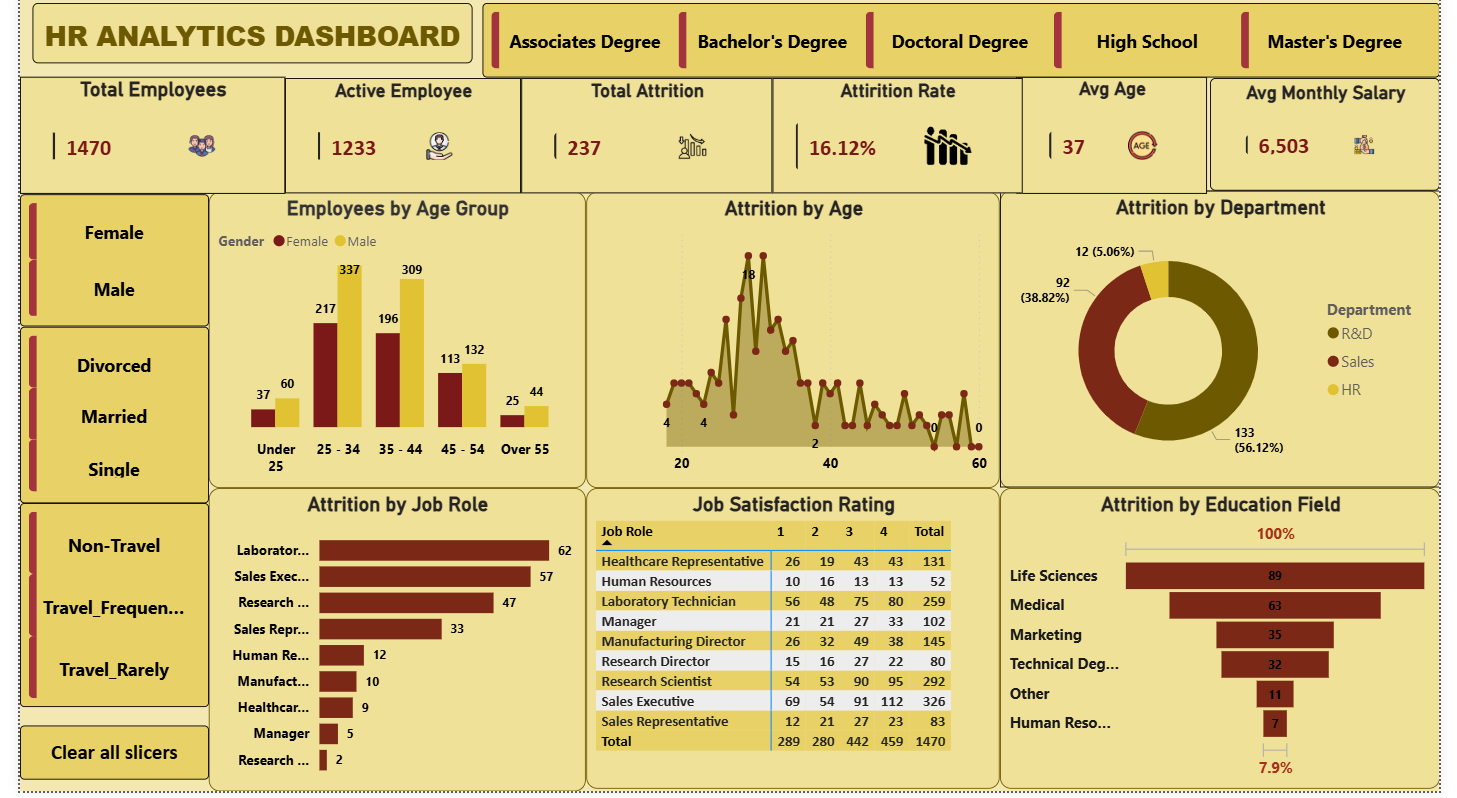

The dashboard page shown, as its layout file describes it:
{"tool":"powerbi","page":{"name":"Page 1","canvas":[1280,720],"ordinal":0},"visuals":[{"type":"cardVisual","title":"Total Employees","fields":{"Data":["Dax Measures.Total Employees"]},"box":[0,75.9,239.2,105.6],"z":0,"group":"g1"},{"type":"clusteredColumnChart","title":"Employees by Age Group","fields":{"Category":["HR data.Age Group"],"Y":["Count(HR data.Employee Number)"],"Series":["HR data.Gender"]},"box":[170.4,179.1,339.6,267.5],"z":0},{"type":"cardVisual","title":"Avg Age","fields":{"Data":["Dax Measures.Avg Age"]},"box":[897.9,76,172.1,105.6],"z":1000,"group":"g1"},{"type":"areaChart","title":"Attrition by Age","fields":{"Category":["HR data.Age"],"Y":["Dax Measures.Total Attrition"]},"box":[510,179.1,373.2,267.5],"z":1000},{"type":"cardVisual","title":"Avg Monthly Salary","fields":{"Data":["Dax Measures.Avg Monthly Salary"]},"box":[1072.5,77.3,207.5,101.9],"z":2000,"group":"g1"},{"type":"donutChart","title":"Attrition by Department","fields":{"Category":["HR data.Department"],"Y":["Dax Measures.Total Attrition"]},"box":[883.2,177.9,396.8,268.7],"z":2000},{"type":"group","id":"g1","title":"Group 1","box":[0,75.9,1280,105.7],"z":3000},{"type":"cardVisual","title":"Active Employee","fields":{"Data":["Dax Measures.Active Employee"]},"box":[239.2,77.1,212.6,104.4],"z":3000,"group":"g1"},{"type":"cardVisual","title":"Total Attrition","fields":{"Data":["Dax Measures.Total Attrition"]},"box":[451.7,77.1,226.5,104.4],"z":4000,"group":"g1"},{"type":"barChart","title":"Attrition by Job Role","fields":{"Category":["HR data.Job Role"],"Y":["Dax Measures.Total Attrition"]},"box":[170.4,446.6,339.6,273.7],"z":4000},{"type":"cardVisual","title":"Attirition Rate","fields":{"Data":["Dax Measures.Attirition Rate"]},"box":[678.2,77.1,225.2,104.4],"z":5000,"group":"g1"},{"type":"pivotTable","title":"Job Satisfaction Rating","fields":{"Rows":["HR data.Job Role"],"Columns":["HR data.Job Satisfaction"],"Values":["Dax Measures.Total Employees"]},"box":[510,446.6,373.2,271.2],"z":5000},{"type":"funnel","title":"Attrition by Education Field","fields":{"Category":["HR data.Education Field"],"Y":["Dax Measures.Total Attrition"]},"box":[883.2,446.6,396.8,271.2],"z":6000},{"type":"advancedSlicerVisual","fields":{"Values":["HR data.Gender"]},"box":[0,181.6,170.4,119.4],"z":7000},{"type":"advancedSlicerVisual","fields":{"Values":["HR data.Marital Status"]},"box":[0,301,170.4,159.2],"z":8000},{"type":"advancedSlicerVisual","fields":{"Values":["HR data.Business Travel"]},"box":[0,460.3,170.4,184.1],"z":9000},{"type":"advancedSlicerVisual","fields":{"Values":["HR data.Education"]},"box":[416.7,8.7,863.3,67.2],"z":10000},{"type":"actionButton","box":[0,660.5,170.4,48.5],"z":11000},{"type":"textbox","box":[11.2,8.7,396.8,54.7],"z":11001}]}

Visuals, with their boxes in screenshot pixels (x1, y1, x2, y2), scaled from the page's 1280x720 canvas onto the 1457x798 screenshot:
"Total Employees" cardVisual: <region>0, 84, 272, 201</region>
"Employees by Age Group" clusteredColumnChart: <region>194, 199, 581, 495</region>
"Avg Age" cardVisual: <region>1022, 84, 1218, 201</region>
"Attrition by Age" areaChart: <region>581, 199, 1005, 495</region>
"Avg Monthly Salary" cardVisual: <region>1221, 86, 1456, 199</region>
"Attrition by Department" donutChart: <region>1005, 197, 1456, 495</region>
"Group 1" group: <region>0, 84, 1456, 201</region>
"Active Employee" cardVisual: <region>272, 85, 514, 201</region>
"Total Attrition" cardVisual: <region>514, 85, 772, 201</region>
"Attrition by Job Role" barChart: <region>194, 495, 581, 797</region>
"Attirition Rate" cardVisual: <region>772, 85, 1028, 201</region>
"Job Satisfaction Rating" pivotTable: <region>581, 495, 1005, 796</region>
"Attrition by Education Field" funnel: <region>1005, 495, 1456, 796</region>
advancedSlicerVisual - HR data.Gender: <region>0, 201, 194, 334</region>
advancedSlicerVisual - HR data.Marital Status: <region>0, 334, 194, 510</region>
advancedSlicerVisual - HR data.Business Travel: <region>0, 510, 194, 714</region>
advancedSlicerVisual - HR data.Education: <region>474, 10, 1456, 84</region>
actionButton: <region>0, 732, 194, 786</region>
textbox: <region>13, 10, 464, 70</region>
